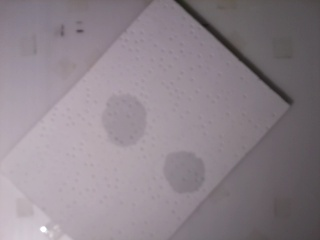Water_detected: (99, 100, 139, 140), (173, 154, 197, 191)
